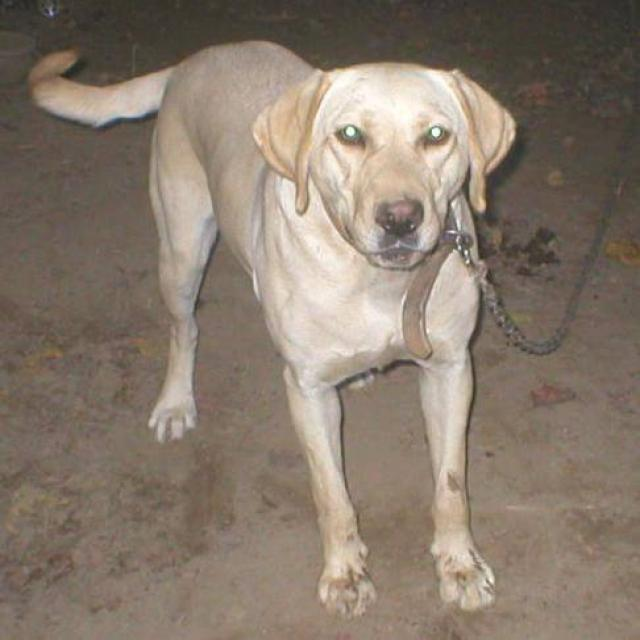dog: (25, 37, 518, 620)
